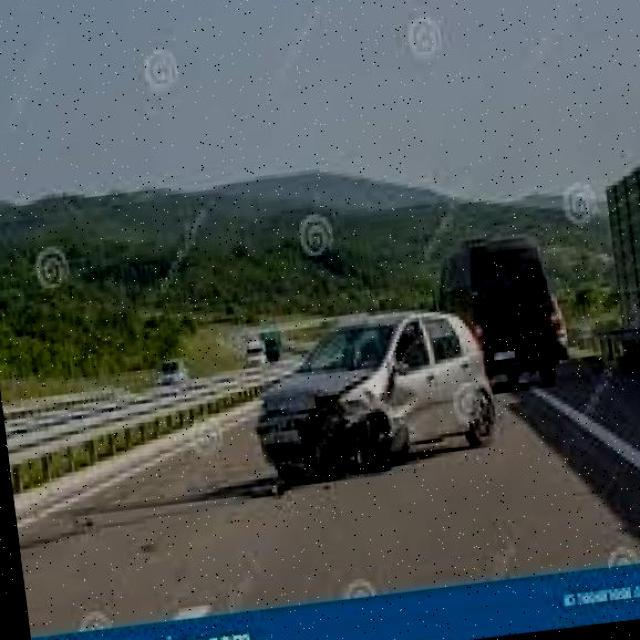accident: (244, 316, 460, 500)
